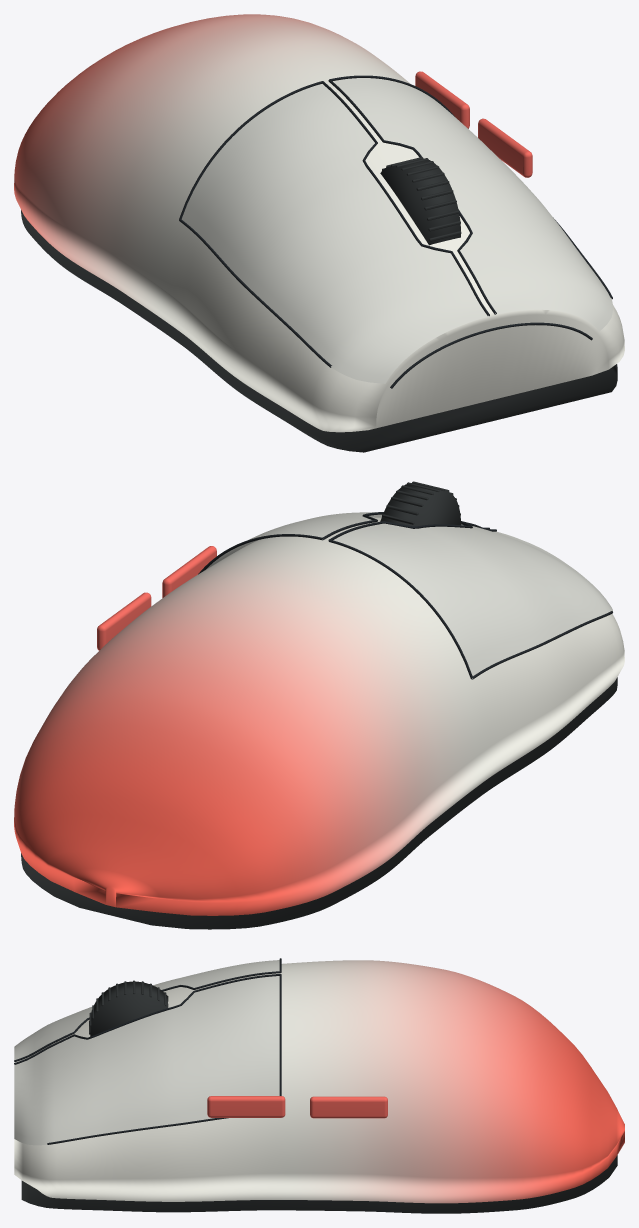
3 renders of one model, top to bottom at view 1: azimuth 30°, elevation 25°; view 2: azimuth 150°, elevation 25°; view 3: azimuth 270°, elevation 25°, orthographic. The views are drawn at different scales.
Parts seen in each view (by area): view 1: Mouse body GPX continuous rounded back, Left click panel, Scroll wheel, Left click outer seam, Side button left only; view 2: Mouse body GPX continuous rounded back, Left click panel, Scroll wheel, Left click outer seam, Side button left only; view 3: Mouse body GPX continuous rounded back, Left click panel, Scroll wheel, Side button left only, Left click outer seam.
Boxes of the visible parts, left/top/right/bottom form: Mouse body GPX continuous rounded back: left=14, top=14, right=624, bottom=432; Left click panel: left=181, top=78, right=612, bottom=383; Scroll wheel: left=21, top=157, right=617, bottom=452; Left click outer seam: left=179, top=75, right=612, bottom=388; Side button left only: left=415, top=71, right=532, bottom=177; Mouse body GPX continuous rounded back: left=14, top=517, right=624, bottom=915; Left click panel: left=206, top=512, right=612, bottom=678; Scroll wheel: left=21, top=481, right=617, bottom=929; Left click outer seam: left=198, top=512, right=612, bottom=679; Side button left only: left=97, top=546, right=216, bottom=650; Mouse body GPX continuous rounded back: left=14, top=960, right=624, bottom=1203; Left click panel: left=14, top=960, right=279, bottom=1145; Scroll wheel: left=21, top=980, right=617, bottom=1213; Side button left only: left=207, top=1096, right=387, bottom=1118; Left click outer seam: left=14, top=958, right=281, bottom=1144.
Bounding box in the file's own units: 0.0635 × 0.0404 × 0.1251.
